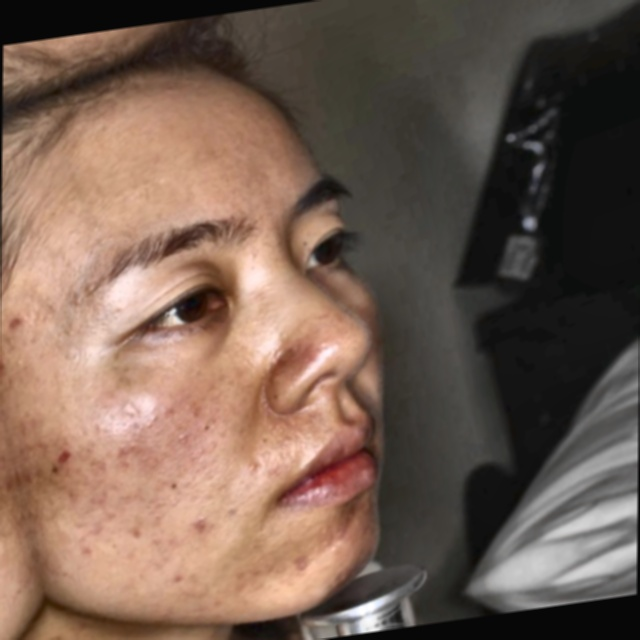comedone: (177, 499, 220, 548), (46, 439, 77, 477), (0, 302, 24, 341)
